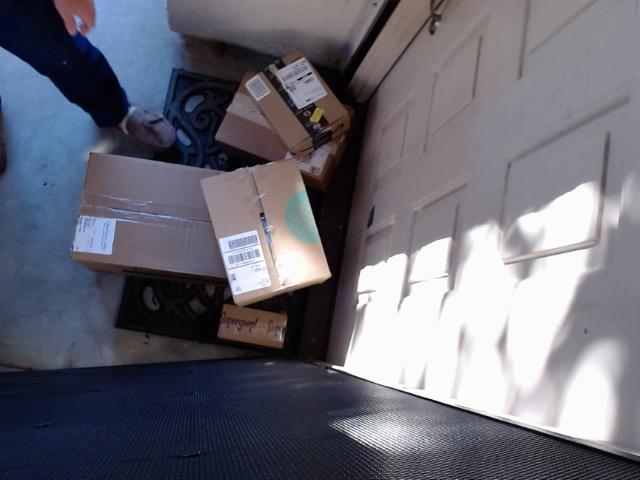box: (61, 131, 245, 285), (223, 46, 373, 212), (212, 156, 338, 296), (242, 59, 347, 159), (211, 291, 320, 356)
